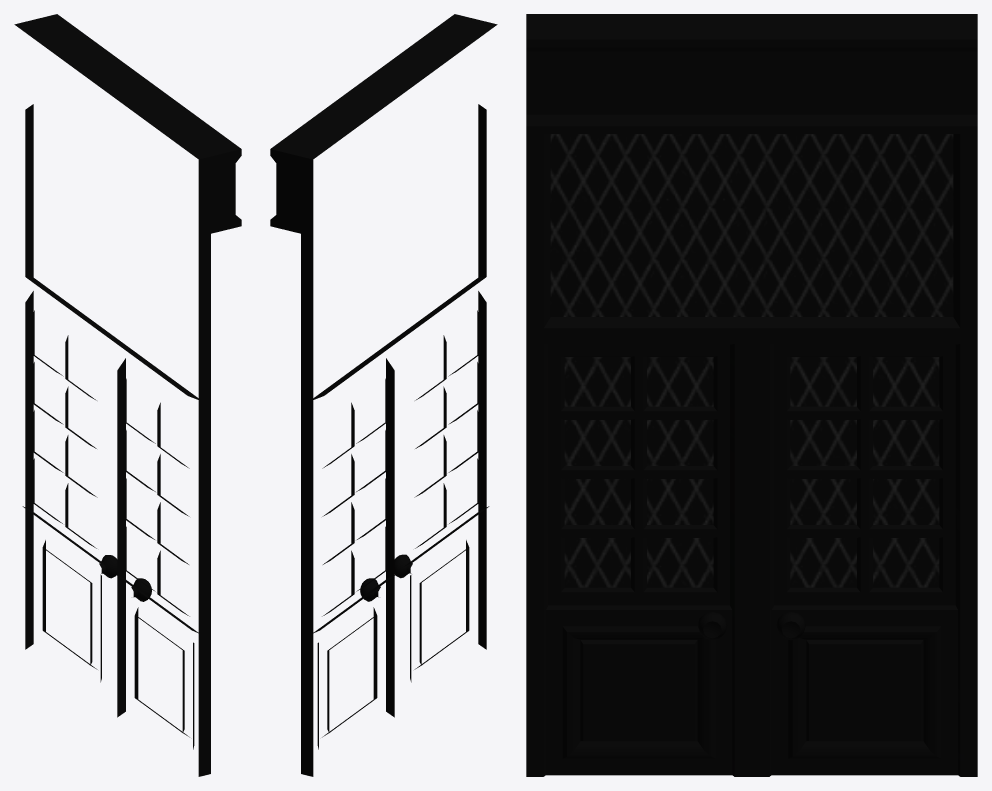
3 views of the same model, side by side, from view 1: azimuth 30°, elevation 25°; view 2: azimuth 150°, elevation 25°; view 3: azimuth 270°, elevation 25° (orthographic). The views are drawn at different scales.
Visible parts, largest first — view 1: body0_model0_lod0_mesh0; view 2: body0_model0_lod0_mesh0; view 3: body0_model0_lod0_mesh0, body0_model0_lod0_mesh1.
Boxes of the visible parts, bbox=[...] form: body0_model0_lod0_mesh0: bbox=[14, 14, 241, 776]; body0_model0_lod0_mesh0: bbox=[270, 14, 497, 776]; body0_model0_lod0_mesh0: bbox=[526, 14, 977, 776]; body0_model0_lod0_mesh1: bbox=[550, 134, 953, 587].
Bounding box in the file's own units: 13.99 × 192 × 104.
2 materials, 2 textured.
